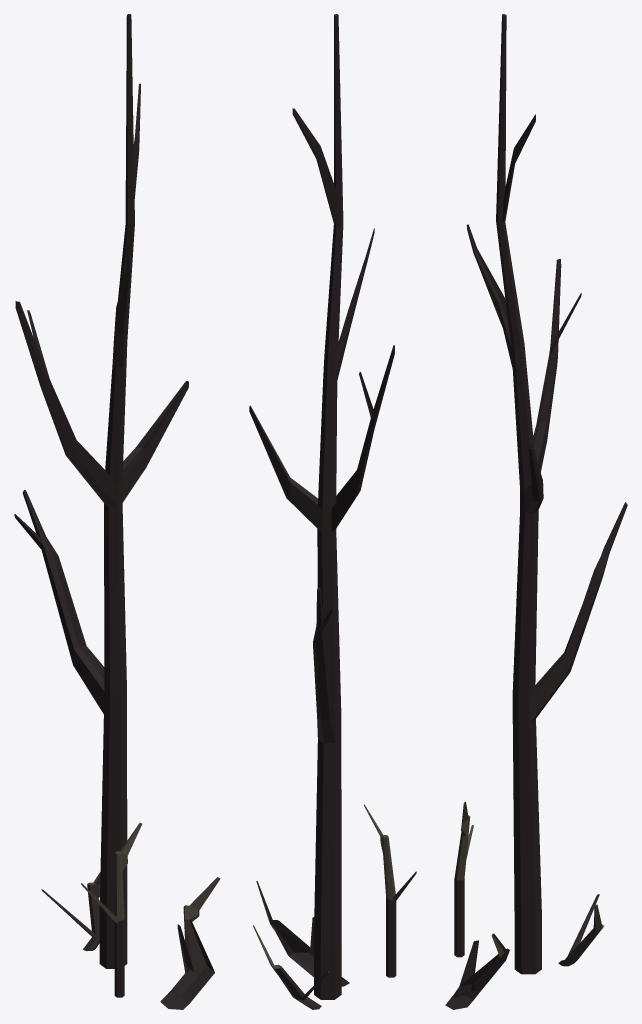
File: tree.gltf
3 views of the same model, side by side, from view 1: azimuth 30°, elevation 25°; view 2: azimuth 150°, elevation 25°; view 3: azimuth 270°, elevation 25° (orthographic).
Parts seen in each view (by area): view 1: drzewo; view 2: drzewo; view 3: drzewo.
Part boxes in pixels (x1,y1,x2,y2): drzewo: [14, 14, 220, 1009]; drzewo: [249, 14, 416, 1009]; drzewo: [445, 14, 627, 1009].
Size of the model in its own units: 1.23 by 6.74 by 1.14.
Materials: 1 (1 with a texture image).
